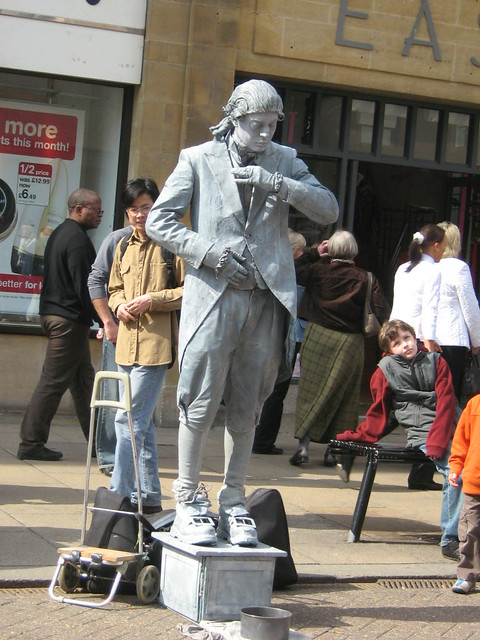person: (87, 173, 189, 516), (14, 185, 118, 464), (292, 225, 390, 471), (346, 317, 464, 462), (383, 223, 451, 355)
person-like: (141, 75, 344, 551)
